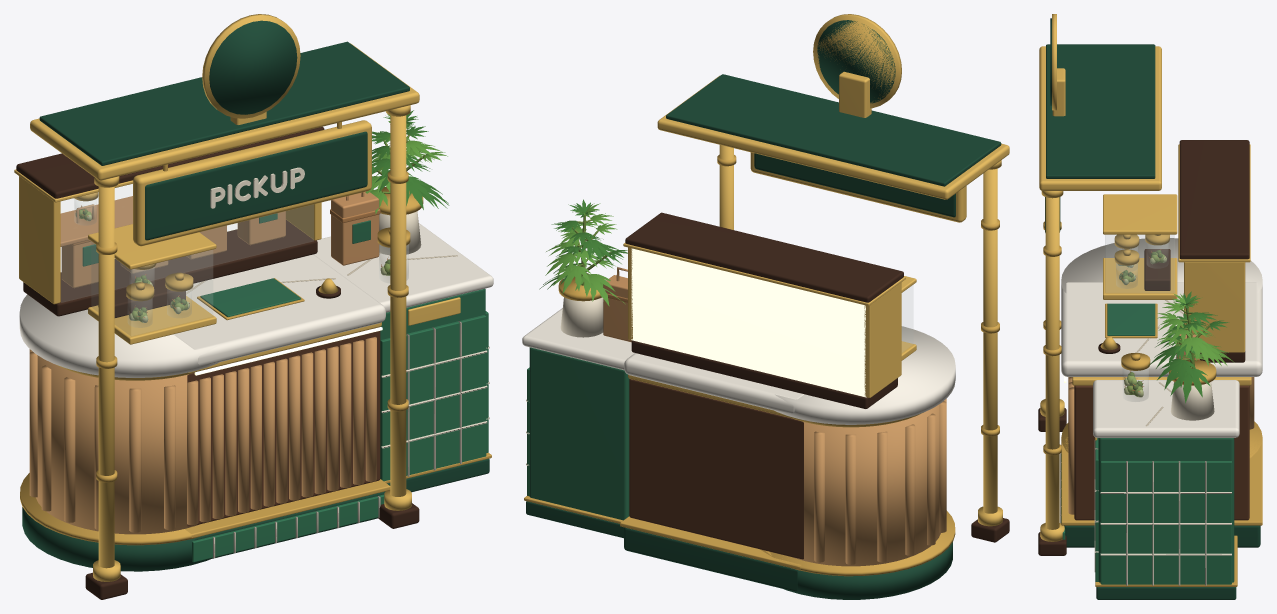
The model's file is pickup_desk_tier5.glb.
3 renders of one model, left to right at view 1: azimuth 30°, elevation 25°; view 2: azimuth 150°, elevation 25°; view 3: azimuth 270°, elevation 25°, orthographic. The views are drawn at different scales.
Parts seen in each view (by area): view 1: CanopyGreen, BodyEnd, CabTile, Sign, Top, CaseGlass, TopEnd, DisplayGlass, Roundel, Col0.47, Col-0.87, CaseBase (+53 smaller); view 2: Body, CaseBack, CanopyGreen, Cabinet, BodyEnd, CaseTop, TopEnd, Canopy, Col-0.87, Plinth, Top, RoundelRing (+23 smaller); view 3: CabTileSide, CanopyGreen, Top, CaseTop, CabinetTop, Col0.47, Body, CasePost0.45, DisplayGlass, Cabinet, Canopy, DisplayCap (+31 smaller).
Part boxes in pixels (x1=…): CanopyGreen: x1=39, y1=41, x2=409, y2=165; BodyEnd: x1=36, y1=355, x2=198, y2=534; CabTile: x1=380, y1=315, x2=486, y2=481; Sign: x1=145, y1=131, x2=367, y2=240; Top: x1=173, y1=254, x2=385, y2=365; CaseGlass: x1=61, y1=184, x2=313, y2=302; TopEnd: x1=19, y1=294, x2=219, y2=377; DisplayGlass: x1=92, y1=242, x2=212, y2=335; Roundel: x1=209, y1=20, x2=297, y2=114; Col0.47: x1=390, y1=115, x2=406, y2=496; Col-0.87: x1=98, y1=186, x2=114, y2=568; CaseBase: x1=23, y1=220, x2=317, y2=316; Body: x1=629, y1=379, x2=803, y2=559; CaseBack: x1=631, y1=248, x2=866, y2=397; CanopyGreen: x1=666, y1=74, x2=1001, y2=186; Cabinet: x1=529, y1=347, x2=629, y2=520; BodyEnd: x1=794, y1=404, x2=940, y2=566; CaseTop: x1=625, y1=212, x2=903, y2=302; TopEnd: x1=775, y1=326, x2=955, y2=424; Canopy: x1=657, y1=75, x2=1009, y2=199; Col-0.87: x1=983, y1=168, x2=997, y2=513; Plinth: x1=624, y1=527, x2=797, y2=591; Top: x1=624, y1=353, x2=803, y2=413; RoundelRing: x1=813, y1=14, x2=901, y2=108; CabTileSide: x1=1100, y1=461, x2=1231, y2=584; CanopyGreen: x1=1046, y1=44, x2=1155, y2=178; Top: x1=1061, y1=282, x2=1262, y2=376; CaseTop: x1=1179, y1=140, x2=1249, y2=259; CabinetTop: x1=1093, y1=380, x2=1239, y2=437; Col0.47: x1=1045, y1=197, x2=1059, y2=529; Body: x1=1074, y1=385, x2=1249, y2=520; CasePost0.45: x1=1184, y1=262, x2=1245, y2=352; DisplayGlass: x1=1105, y1=235, x2=1174, y2=292; Cabinet: x1=1098, y1=438, x2=1234, y2=582; Canopy: x1=1039, y1=46, x2=1161, y2=190; DisplayCap: x1=1103, y1=194, x2=1177, y2=234.
Size of the model in its own units: 1.99 by 2.37 by 1.03.
